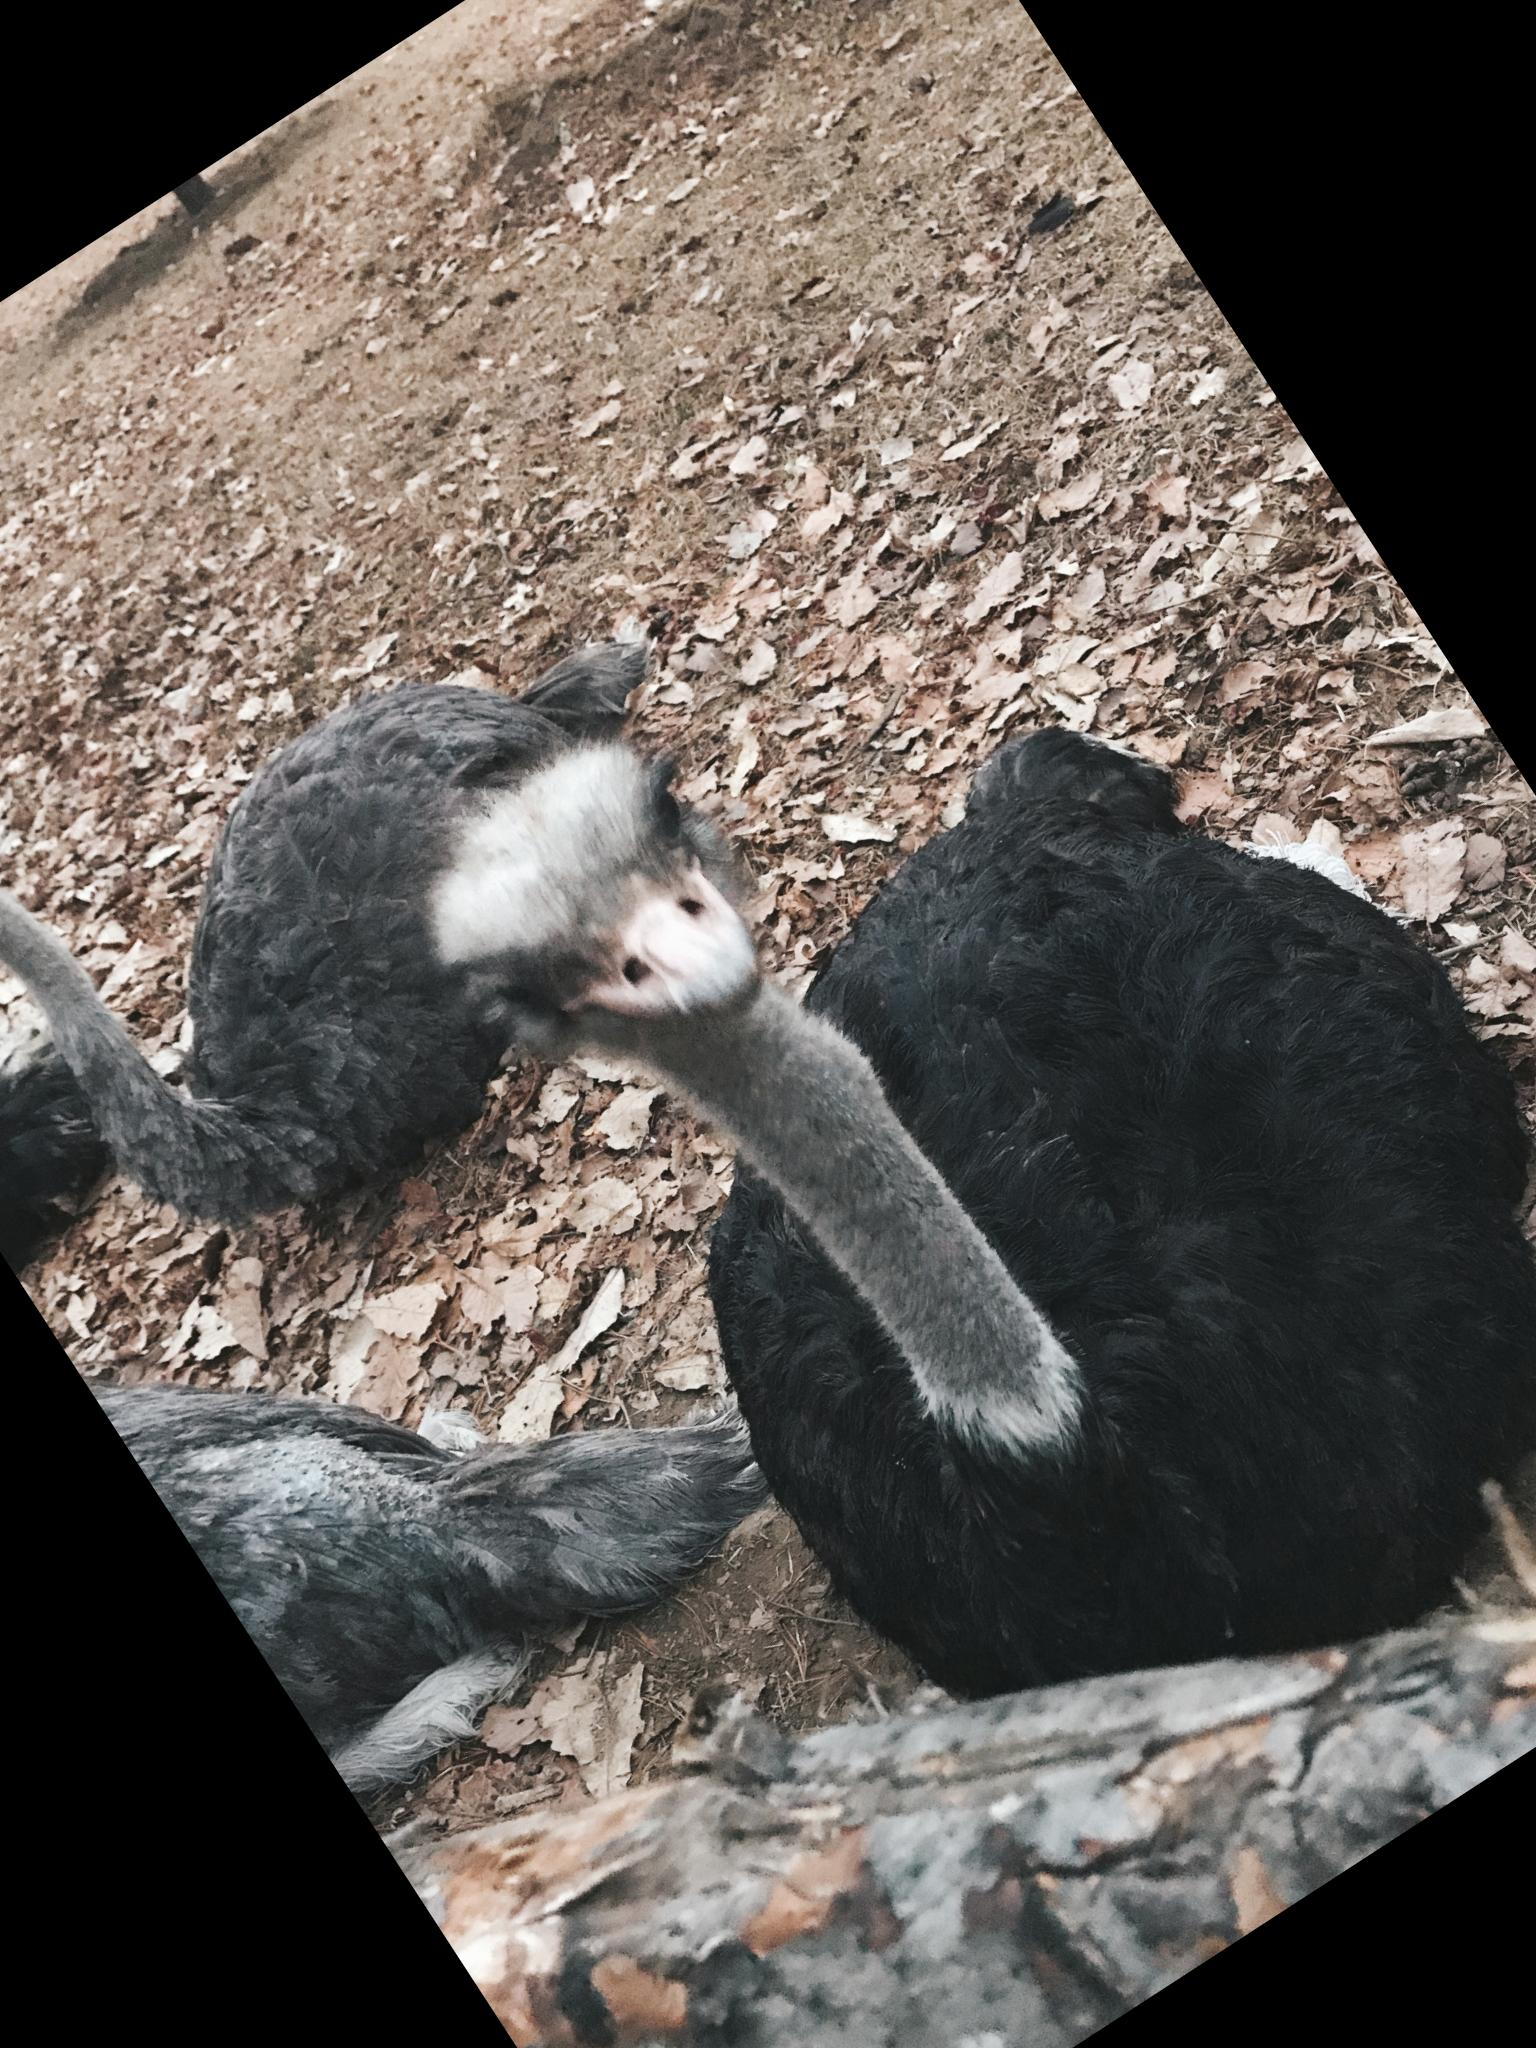ostrich: (361, 405, 1536, 1888), (0, 352, 820, 1372), (89, 1093, 812, 1811)
